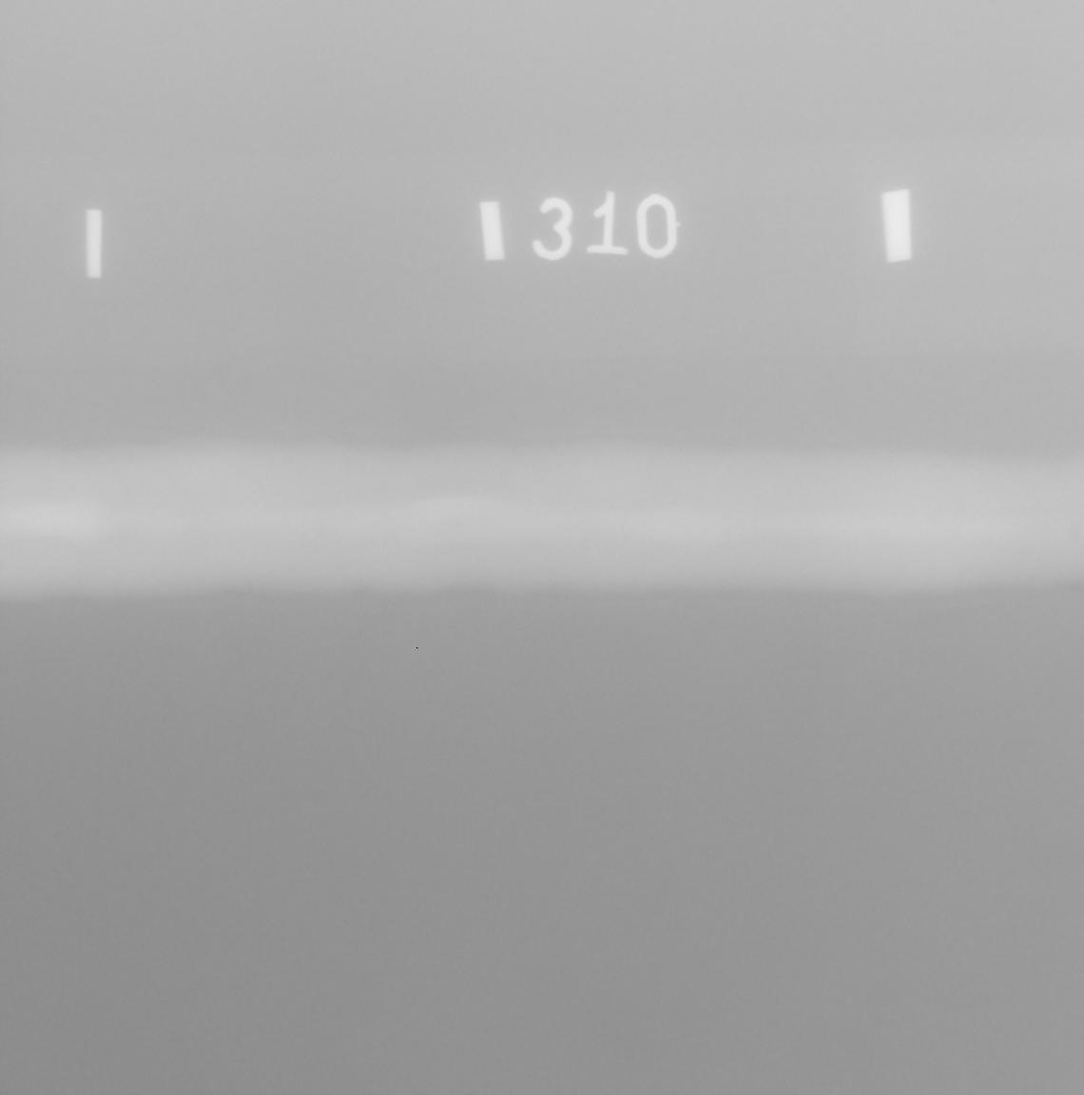Inclusion: (457, 522, 463, 528)
Pore/Porosity: (1070, 523, 1082, 534)
